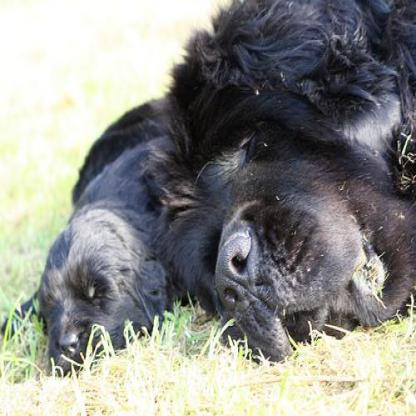Newfoundland: (16, 0, 414, 381)
